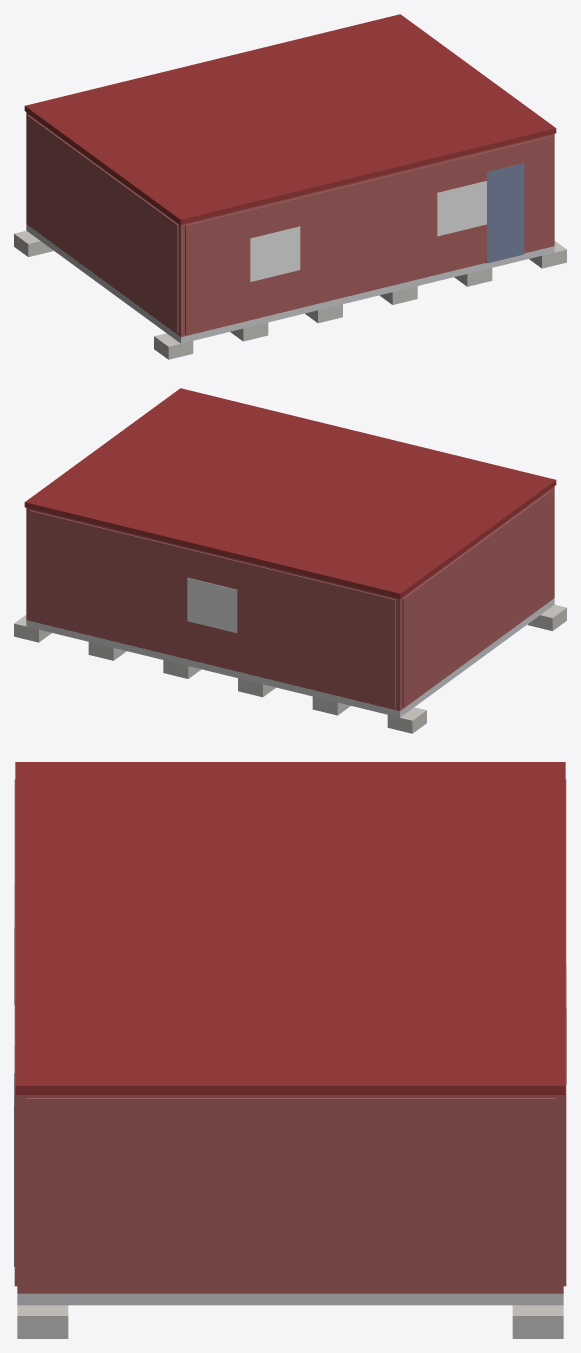
Rendered from Studio-30-Base-MaroonRed-LOD1.glb.
3 views of the same model, one above another, from view 1: azimuth 30°, elevation 25°; view 2: azimuth 150°, elevation 25°; view 3: azimuth 270°, elevation 25° (orthographic). The views are drawn at different scales.
Visible parts, largest first — view 1: RoofMain, ExteriorPanelsStandard, WindowsStandard, BaseFrame, FoundationBlocks, EntryDoor, ExteriorShell; view 2: RoofMain, ExteriorPanelsStandard, BaseFrame, FoundationBlocks, ExteriorShell, WindowsStandard; view 3: RoofMain, ExteriorPanelsStandard, BaseFrame, ExteriorShell, FoundationBlocks.
Part boxes in pixels (bbox=[...]): RoofMain: bbox=[24, 14, 556, 224]; ExteriorPanelsStandard: bbox=[27, 115, 551, 334]; WindowsStandard: bbox=[250, 181, 486, 281]; BaseFrame: bbox=[26, 224, 554, 343]; FoundationBlocks: bbox=[14, 230, 566, 359]; EntryDoor: bbox=[486, 163, 524, 263]; ExteriorShell: bbox=[26, 112, 554, 336]; RoofMain: bbox=[24, 388, 556, 598]; ExteriorPanelsStandard: bbox=[30, 489, 553, 708]; BaseFrame: bbox=[26, 598, 554, 717]; FoundationBlocks: bbox=[14, 604, 566, 733]; ExteriorShell: bbox=[26, 486, 554, 710]; WindowsStandard: bbox=[187, 577, 237, 633]; RoofMain: bbox=[15, 762, 565, 1094]; ExteriorPanelsStandard: bbox=[14, 779, 566, 1290]; BaseFrame: bbox=[17, 1293, 563, 1305]; ExteriorShell: bbox=[17, 1095, 563, 1293]; FoundationBlocks: bbox=[17, 1305, 563, 1338].
Size of the model in its own units: 9.6 by 3.17 by 6.53.
